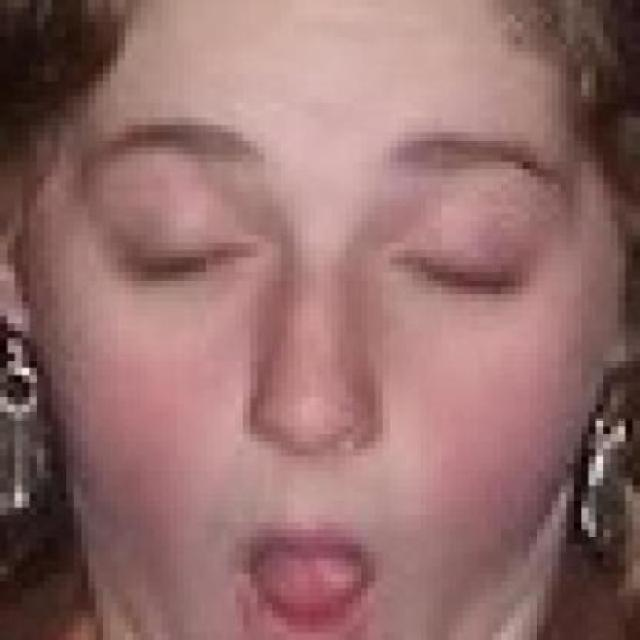drowsy: (394, 245, 524, 308), (128, 234, 262, 289)
